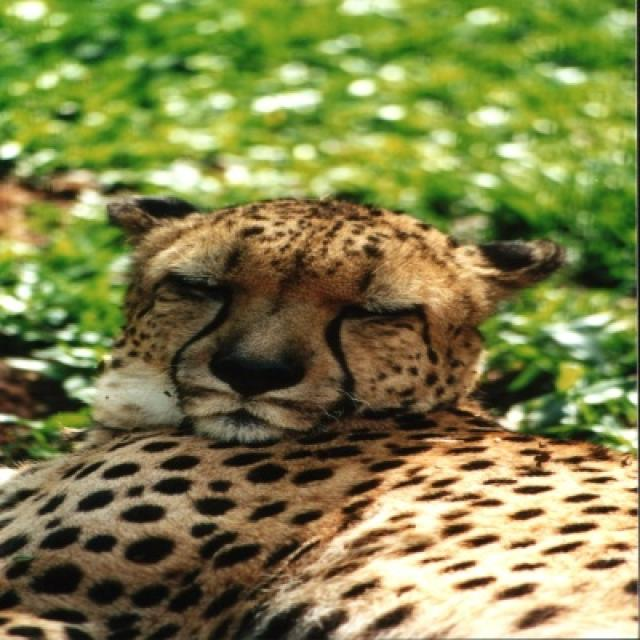Cheetah: (0, 195, 638, 638)
